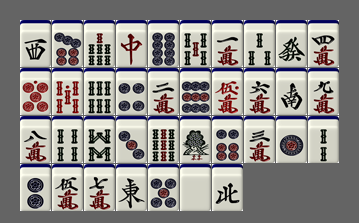0m: (212, 68, 243, 115)
0p: (20, 68, 51, 115)
0s: (52, 68, 83, 115)
1m: (212, 20, 243, 67)
1p: (276, 116, 307, 163)
1s: (180, 116, 211, 163)
1z: (116, 164, 147, 211)
2m: (148, 68, 179, 115)
2p: (20, 164, 51, 211)
2s: (308, 116, 339, 163)
2z: (276, 68, 307, 115)
3m: (244, 116, 275, 163)
3p: (116, 116, 147, 163)
3s: (244, 20, 275, 67)
3z: (20, 20, 51, 67)
4m: (308, 20, 339, 67)
4p: (116, 68, 147, 115)
4s: (52, 116, 83, 163)
4z: (212, 164, 243, 211)
5m: (52, 164, 83, 211)
5p: (148, 164, 179, 211)
5s: (180, 20, 211, 67)
5z: (180, 164, 211, 211)
6m: (244, 68, 275, 115)
6p: (212, 116, 243, 163)
6s: (84, 68, 115, 115)
6z: (276, 20, 307, 67)
7m: (84, 164, 115, 211)
7p: (52, 20, 83, 67)
7s: (84, 20, 115, 67)
7z: (116, 20, 147, 67)
8m: (20, 116, 51, 163)
8p: (148, 20, 179, 67)
8s: (84, 116, 115, 163)
9m: (308, 68, 339, 115)
9p: (180, 68, 211, 115)
9s: (148, 116, 179, 163)
